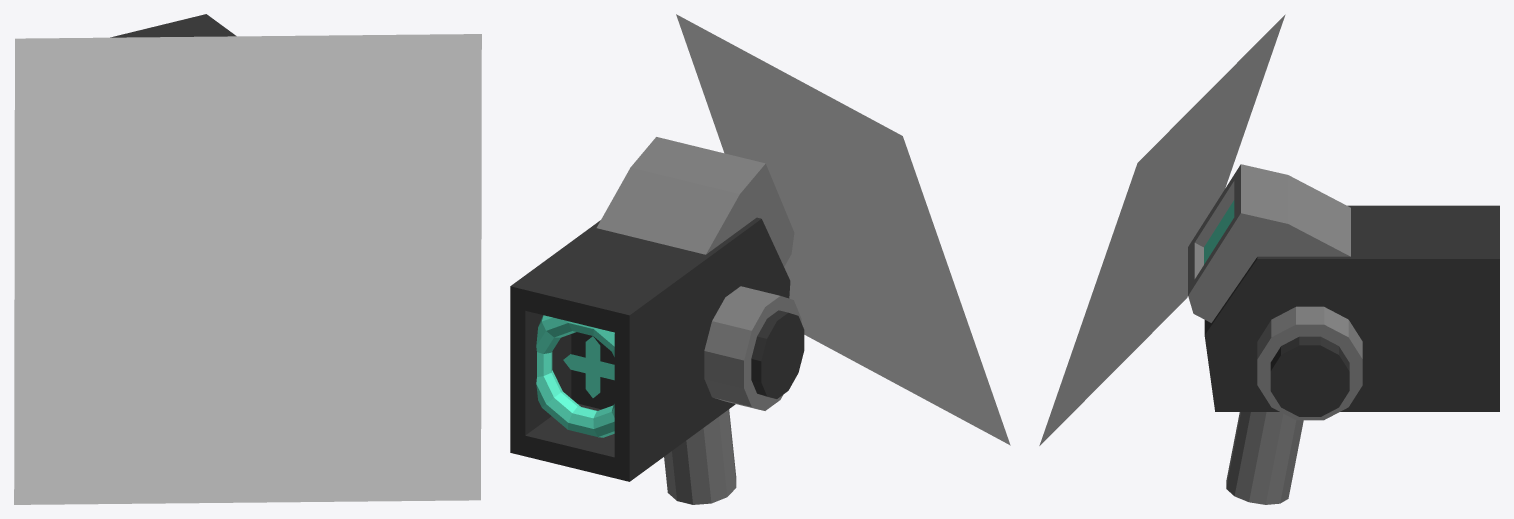
File: MAGpainter.obj
The picture shows the model from 3 angles, left to right: view 1: azimuth 30°, elevation 25°; view 2: azimuth 150°, elevation 25°; view 3: azimuth 270°, elevation 25°; orthographic projection. The views are drawn at different scales.
Visible parts, largest first — view 1: plane, cuboid; view 2: plane, cuboid, cylinder; view 3: cuboid, plane, cylinder.
Boxes of the visible parts, bbox=[...] form: plane: bbox=[14, 34, 481, 504]; cuboid: bbox=[110, 14, 236, 37]; plane: bbox=[536, 14, 1010, 445]; cuboid: bbox=[510, 217, 804, 481]; cylinder: bbox=[596, 137, 801, 504]; cuboid: bbox=[1204, 205, 1499, 416]; plane: bbox=[1039, 14, 1285, 445]; cylinder: bbox=[1188, 164, 1362, 504].
Size of the model in its own units: 2.45 by 2.51 by 2.73.
